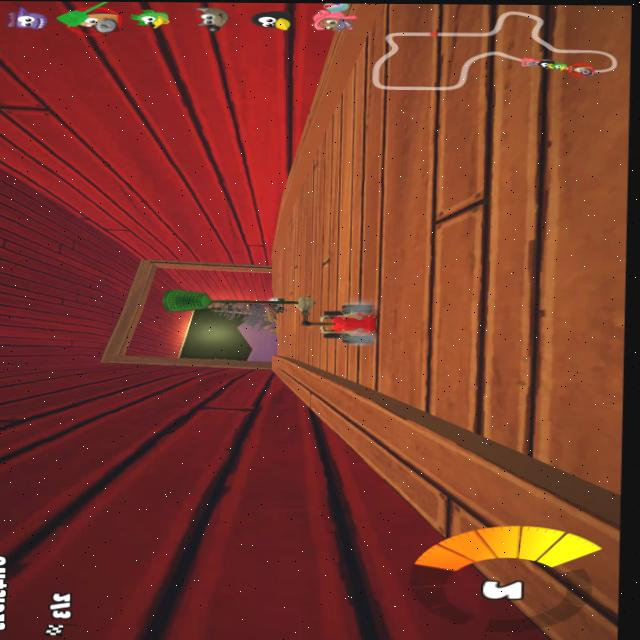player_kart: (297, 297, 396, 353)
track: (376, 3, 640, 295), (390, 292, 634, 397), (408, 396, 631, 441), (281, 197, 383, 294), (315, 54, 380, 199), (271, 314, 297, 358), (291, 172, 320, 200)
